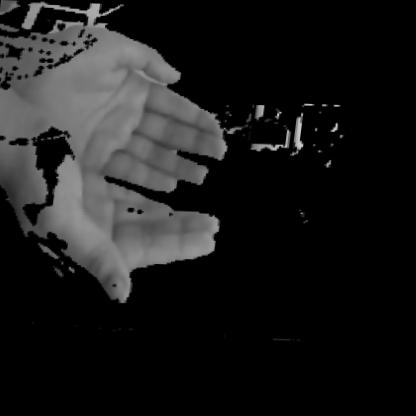dua: (0, 1, 269, 318)
